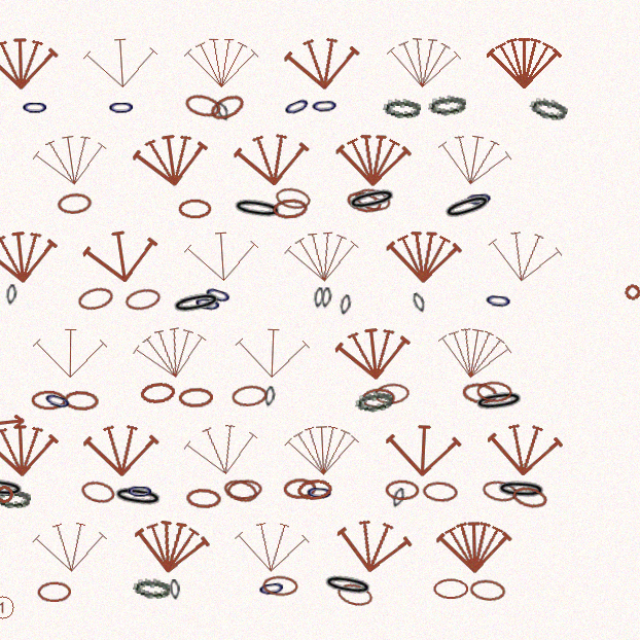chain: (441, 189, 494, 223), (348, 184, 401, 214), (178, 285, 230, 314), (325, 560, 377, 588), (237, 195, 289, 221), (472, 382, 524, 408), (121, 475, 173, 501), (214, 93, 253, 125), (494, 470, 545, 492), (356, 185, 395, 213), (526, 97, 566, 124), (87, 281, 125, 309), (228, 468, 266, 496), (339, 569, 377, 597), (191, 94, 229, 121), (357, 382, 396, 408), (348, 188, 385, 215), (509, 475, 546, 502), (133, 283, 171, 309), (279, 185, 316, 211), (0, 467, 38, 492), (428, 95, 467, 119), (90, 470, 126, 496), (480, 470, 517, 495), (285, 94, 318, 122), (209, 278, 241, 305), (53, 381, 85, 408), (461, 375, 497, 399), (237, 378, 274, 401), (148, 375, 184, 398), (469, 567, 505, 590), (68, 191, 103, 214), (376, 376, 411, 399), (301, 469, 336, 492), (142, 566, 179, 587), (277, 197, 312, 219), (363, 381, 398, 403), (233, 470, 268, 492), (423, 472, 458, 494), (385, 100, 422, 120), (6, 479, 43, 499), (74, 384, 109, 405), (476, 375, 511, 396), (193, 479, 228, 500), (268, 564, 303, 585), (200, 288, 230, 312), (186, 381, 220, 402), (288, 469, 321, 490), (262, 565, 292, 588), (43, 384, 77, 404), (387, 471, 421, 491), (434, 567, 468, 587), (186, 198, 219, 218), (49, 570, 82, 590), (464, 187, 493, 209), (483, 286, 512, 308), (314, 97, 343, 118), (309, 473, 338, 494), (33, 99, 61, 119), (117, 99, 145, 119), (135, 472, 163, 492), (221, 102, 238, 124), (412, 288, 429, 310), (392, 478, 408, 500), (342, 291, 355, 312), (18, 281, 30, 302), (317, 284, 329, 305), (324, 284, 336, 305), (269, 380, 281, 401), (177, 568, 189, 588)
fan: (139, 314, 220, 381), (434, 127, 514, 193), (434, 315, 514, 381), (91, 221, 171, 286), (189, 409, 269, 474), (336, 503, 416, 568), (42, 128, 122, 192), (483, 222, 563, 286), (140, 128, 219, 192), (140, 504, 219, 568), (337, 317, 415, 379), (239, 129, 316, 190), (288, 36, 365, 96), (288, 224, 365, 284), (93, 36, 169, 95), (387, 36, 463, 95), (191, 224, 267, 283), (485, 412, 561, 471), (0, 223, 72, 285), (289, 413, 364, 471), (387, 413, 462, 471), (44, 507, 119, 565), (240, 507, 315, 565), (241, 319, 315, 376), (339, 132, 413, 188), (388, 226, 462, 282), (94, 414, 168, 470), (437, 508, 511, 564), (0, 413, 71, 471), (192, 38, 265, 93), (486, 38, 559, 93), (45, 320, 118, 375), (0, 38, 70, 94)
noise: (0, 406, 39, 425), (2, 582, 29, 609), (7, 475, 28, 496), (617, 278, 638, 299)
